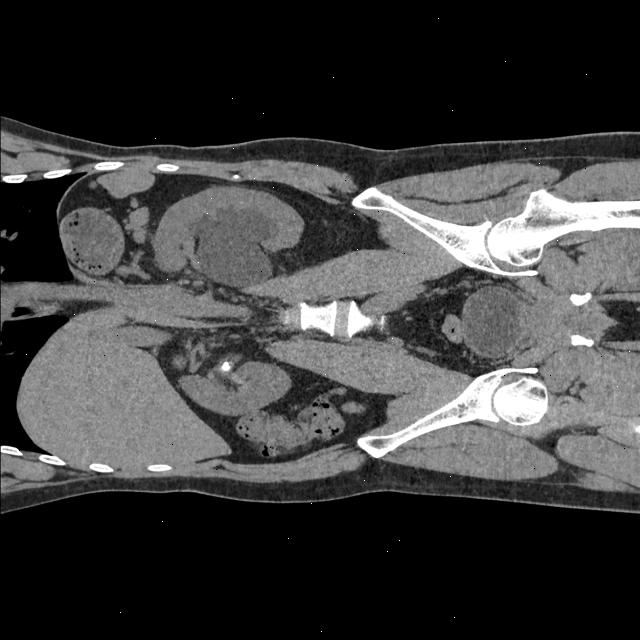kidneystone: (221, 360, 232, 371)
